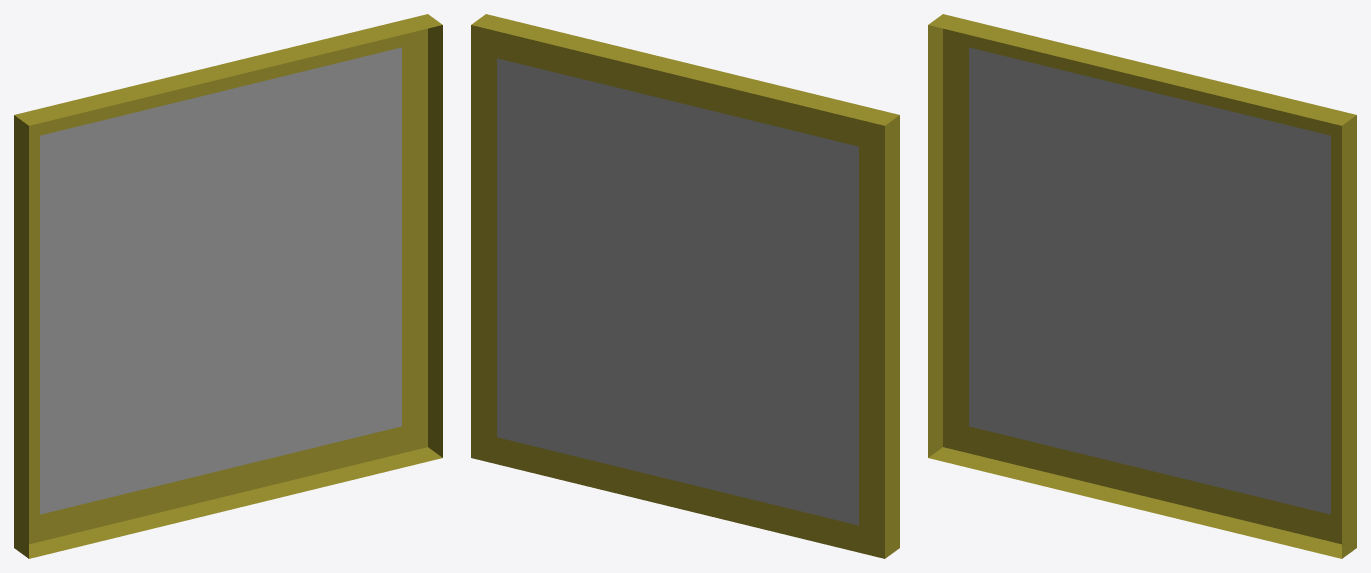
File: collectionSite.obj
3 views of the same model, side by side, from view 1: azimuth 30°, elevation 25°; view 2: azimuth 150°, elevation 25°; view 3: azimuth 330°, elevation 25° (orthographic).
Parts seen in each view (by area): view 1: Cube; view 2: Cube; view 3: Cube.
Boxes of the visible parts, x1=… form: Cube: x1=14, y1=14, x2=442, y2=558; Cube: x1=471, y1=14, x2=899, y2=558; Cube: x1=928, y1=14, x2=1356, y2=558.
Bounding box in the file's own units: 1.22 × 1.22 × 0.0762.
